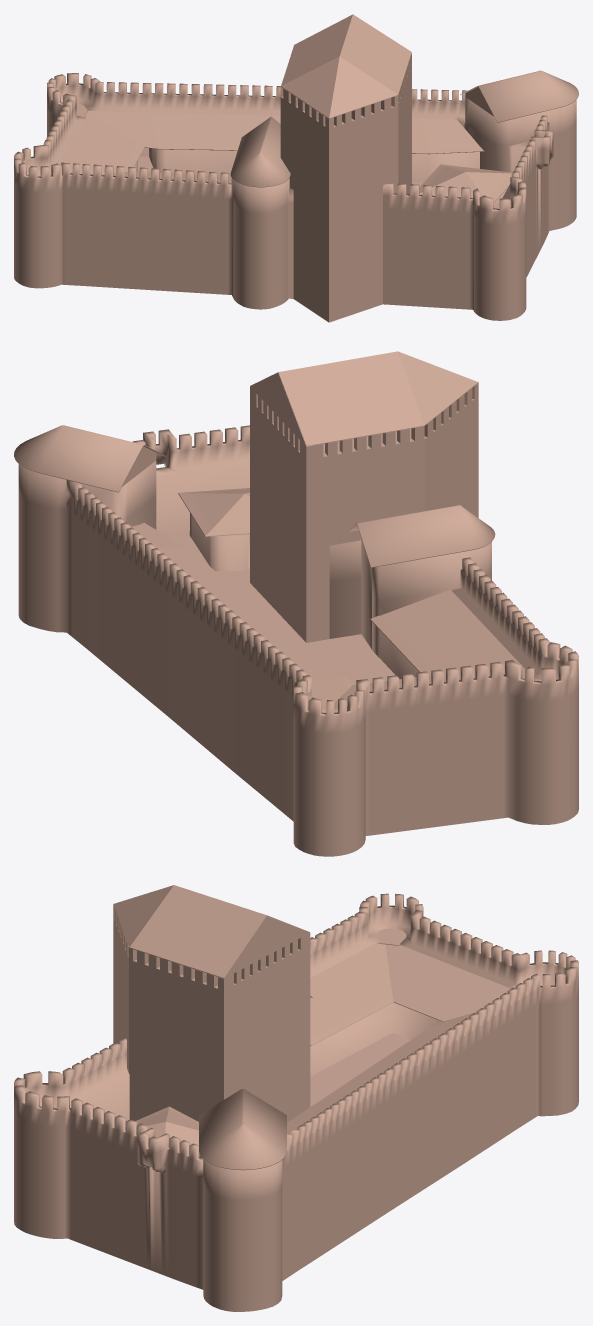
Rendered from castle.glb.
3 views of the same model, one above another, from view 1: azimuth 30°, elevation 25°; view 2: azimuth 150°, elevation 25°; view 3: azimuth 270°, elevation 25° (orthographic). The views are drawn at different scales.
Parts seen in each view (by area): view 1: Cube.092, Cube.079, Cube.091, Plane.003, Cylinder.002, Cube.082, Cylinder.001; view 2: Cube.092, Cube.079, Cube.091, Plane.003, Cylinder.001, Cylinder.002, Plane.001, Cube.082, Cube.094; view 3: Cube.092, Cube.079, Cube.091, Plane.003, Cylinder.002, Cube.082, Plane.001, Cube.094.
Part boxes in pixels (box(x1,y1,x2,y2)): Cube.092: box(14, 73, 576, 320); Cube.079: box(280, 53, 411, 322); Cube.091: box(60, 111, 512, 202); Plane.003: box(281, 14, 411, 118); Cylinder.002: box(460, 70, 578, 122); Cube.082: box(134, 148, 508, 204); Cylinder.001: box(230, 116, 290, 187); Cube.092: box(18, 425, 578, 856); Cube.079: box(250, 383, 478, 642); Cube.091: box(130, 488, 536, 709); Plane.003: box(250, 351, 478, 446); Cylinder.001: box(349, 505, 495, 567); Cylinder.002: box(14, 425, 167, 492); Plane.001: box(162, 529, 395, 685); Cube.082: box(189, 513, 418, 679); Cube.094: box(250, 373, 313, 446); Cube.092: box(14, 893, 578, 1311); Cube.079: box(113, 905, 310, 1122); Cube.091: box(135, 938, 510, 1145); Plane.003: box(113, 885, 309, 978); Cylinder.002: box(199, 1089, 286, 1170); Cube.082: box(199, 1002, 441, 1155); Plane.001: box(310, 1033, 410, 1106); Cube.094: box(218, 916, 309, 978).
Size of the model in its own units: 0.3054 by 0.1411 by 0.2596.
